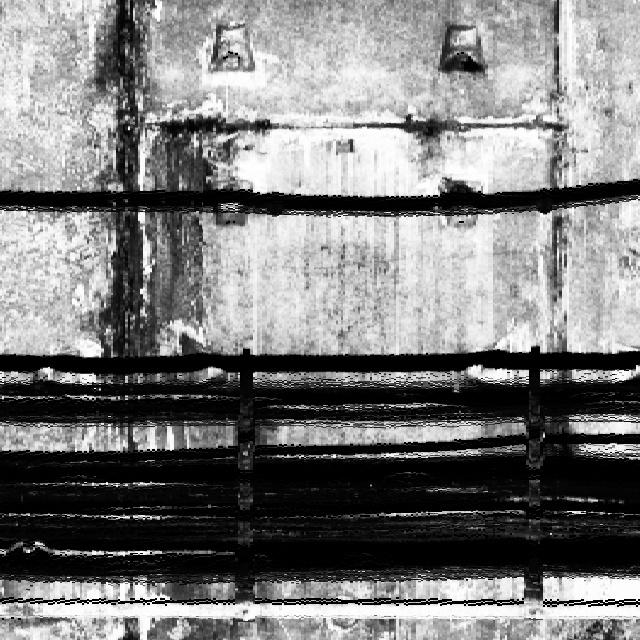leakage: (45, 0, 228, 371)
